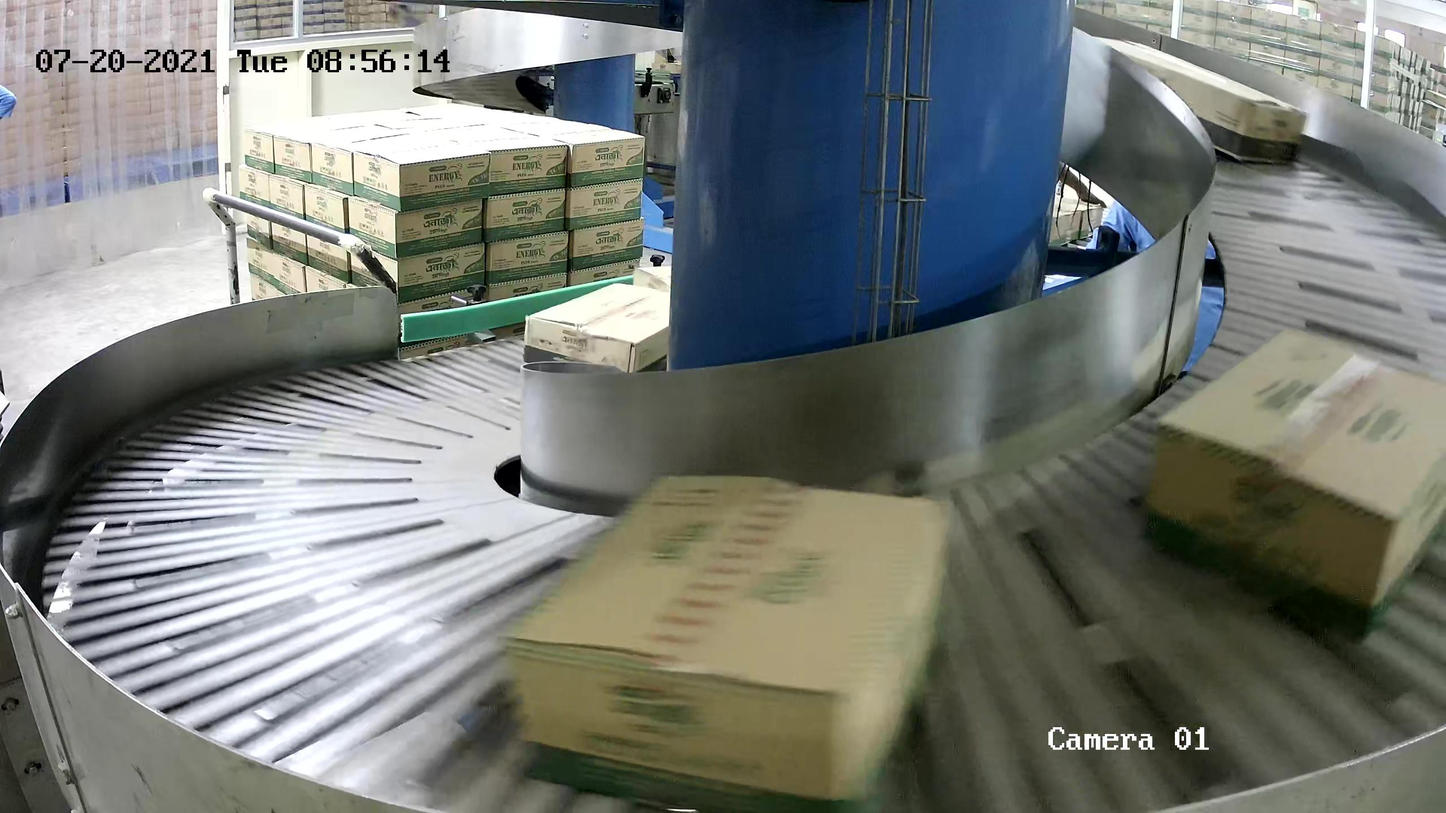Box: (500, 470, 953, 813), (1143, 323, 1446, 646), (1089, 35, 1308, 165), (523, 282, 671, 372)
